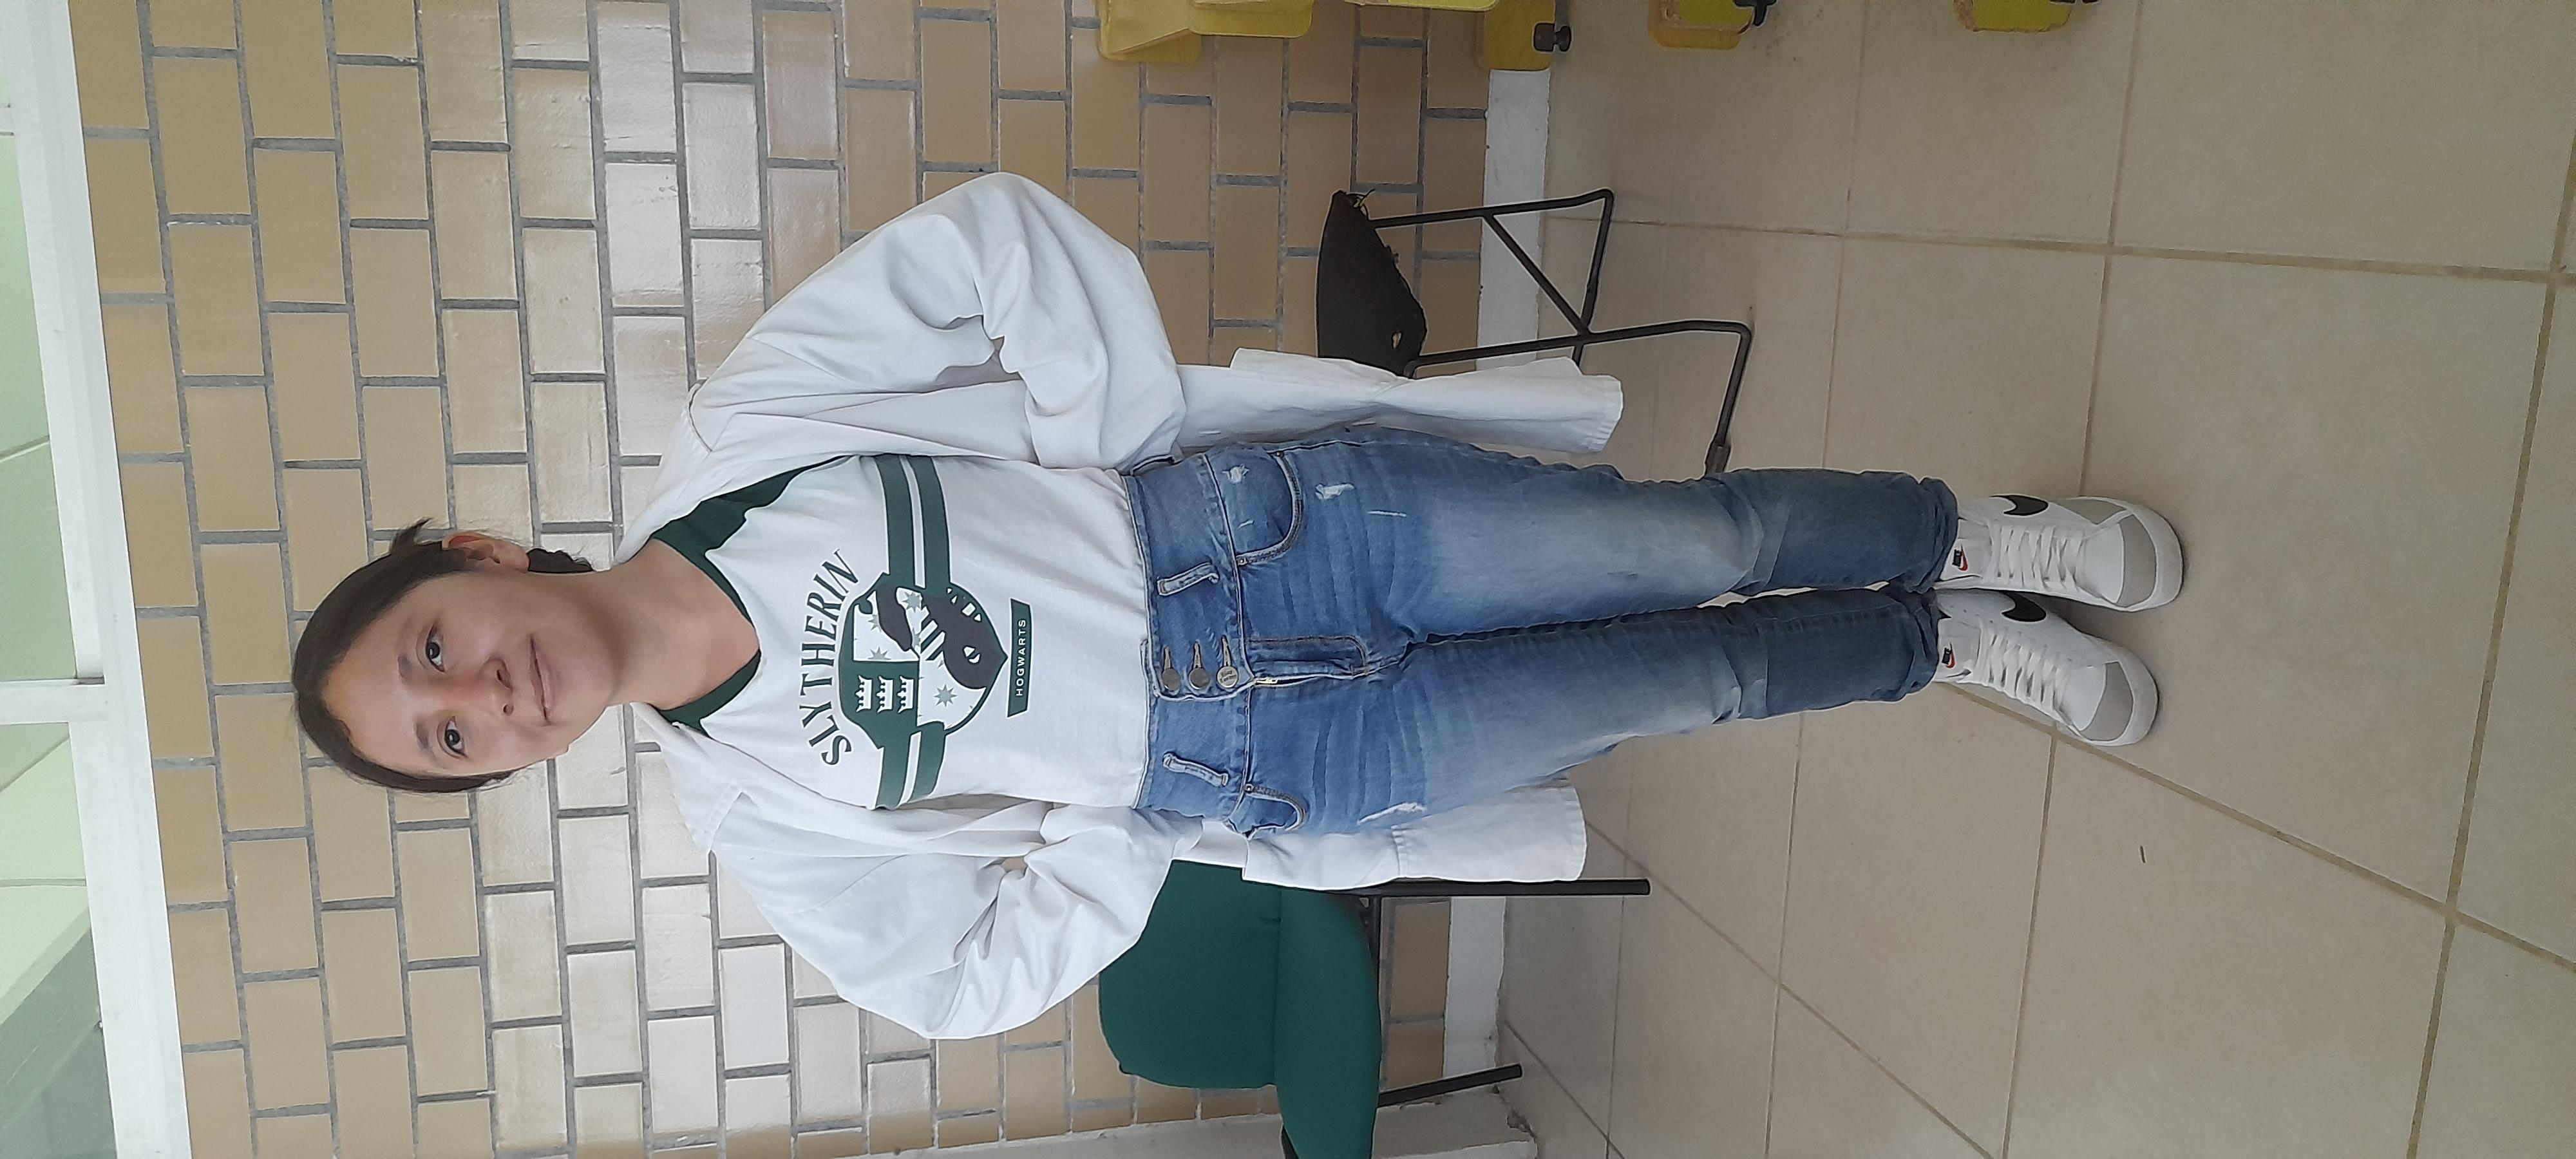Bata-Incorrecta: (243, 117, 2303, 1003)
